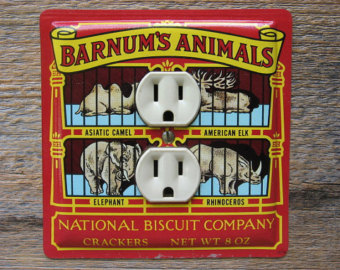outlet: (150, 82, 186, 125), (151, 157, 186, 200)
